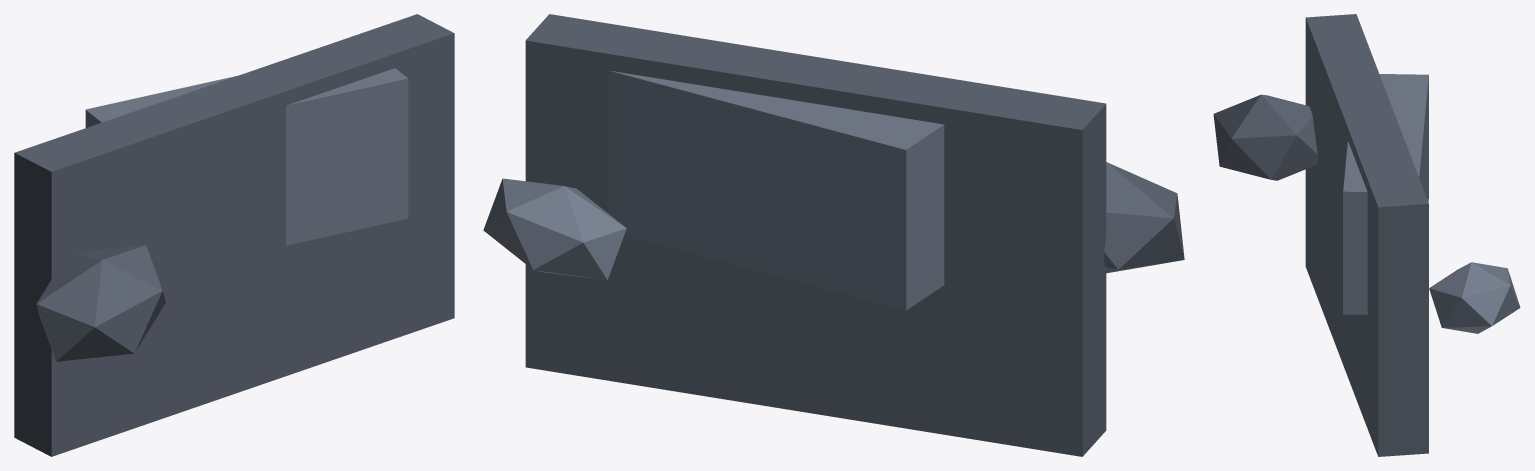
File: EXTC_CollapsedPlinth_00.glb
3 views of the same model, side by side, from view 1: azimuth 30°, elevation 25°; view 2: azimuth 150°, elevation 25°; view 3: azimuth 270°, elevation 25° (orthographic). The views are drawn at different scales.
Parts seen in each view (by area): view 1: EXTC_CollapsedPlinth_00; view 2: EXTC_CollapsedPlinth_00; view 3: EXTC_CollapsedPlinth_00.
Part boxes in pixels (<box>): EXTC_CollapsedPlinth_00: <box>14,14,454,456</box>; EXTC_CollapsedPlinth_00: <box>483,14,1184,456</box>; EXTC_CollapsedPlinth_00: <box>1213,14,1520,456</box>.
Bounding box in the file's own units: 2.09 × 1.18 × 1.32.
